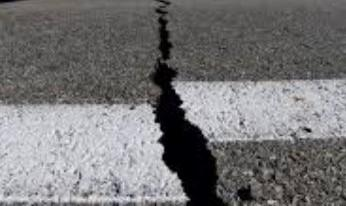crack: (139, 0, 227, 206)
